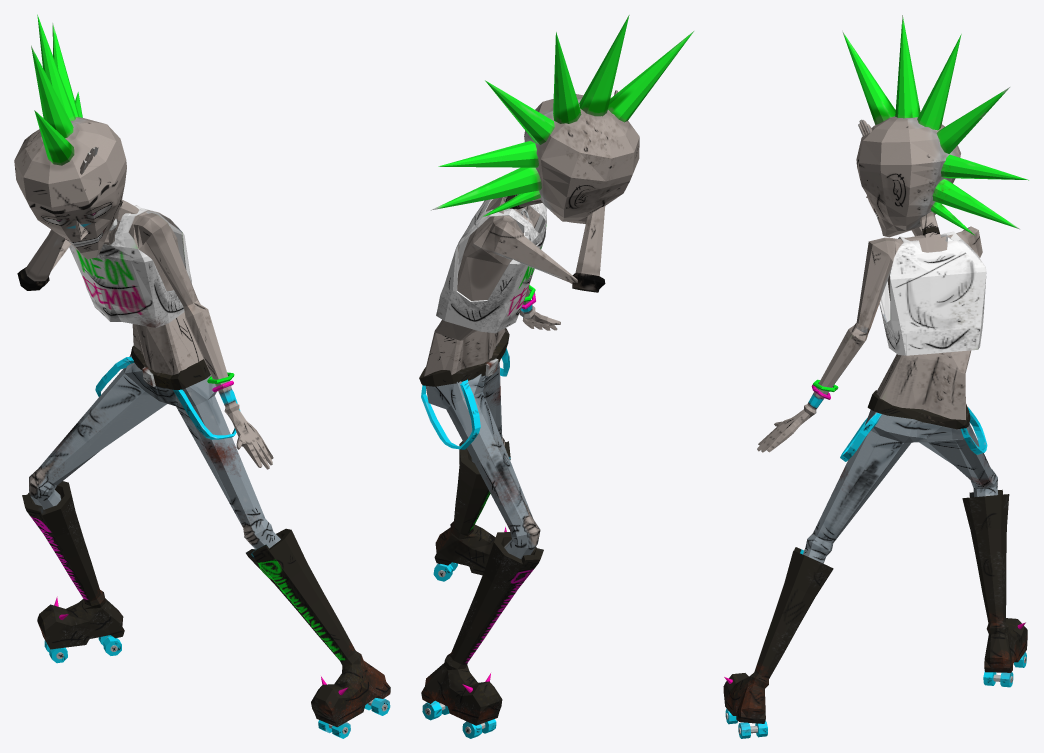
File: punkAnimation_000050.obj
3 views of the same model, side by side, from view 1: azimuth 30°, elevation 25°; view 2: azimuth 150°, elevation 25°; view 3: azimuth 270°, elevation 25° (orthographic). The views are drawn at different scales.
Visible parts, largest first — view 1: Cube.004_Cube.003; view 2: Cube.004_Cube.003; view 3: Cube.004_Cube.003.
Boxes of the visible parts, x1,y1,x2,y2 form: Cube.004_Cube.003: (14,14,390,738); Cube.004_Cube.003: (419,15,693,738); Cube.004_Cube.003: (723,15,1028,738).
Bounding box in the file's own units: 3.13 × 6.72 × 3.03.
